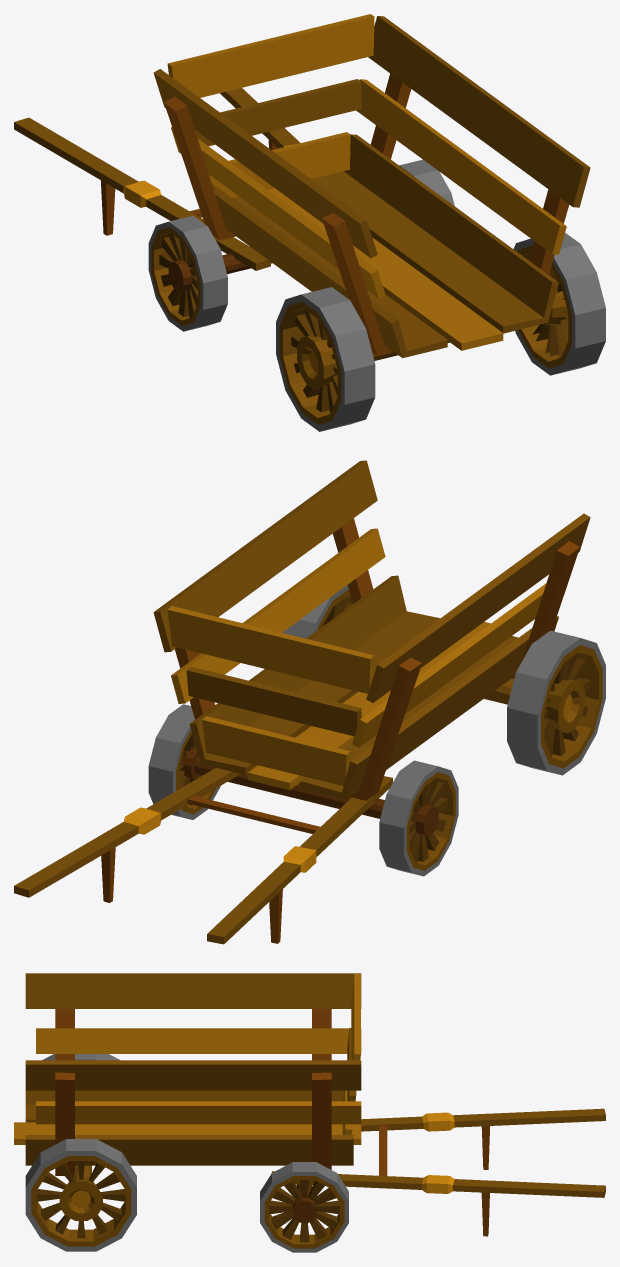
The model's file is cart.fbx.
3 renders of one model, top to bottom at view 1: azimuth 30°, elevation 25°; view 2: azimuth 150°, elevation 25°; view 3: azimuth 270°, elevation 25°, orthographic. The views are drawn at different scales.
Parts seen in each view (by area): view 1: cart; view 2: cart; view 3: cart.
Boxes of the visible parts, x1,y1,x2,y2 form: cart: (14, 14, 605, 431); cart: (14, 460, 605, 944); cart: (14, 973, 605, 1252).
Bounding box in the file's own units: 130 × 110 × 315.
